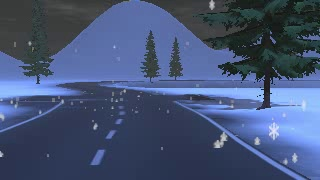Lane: (1, 82, 303, 179)
